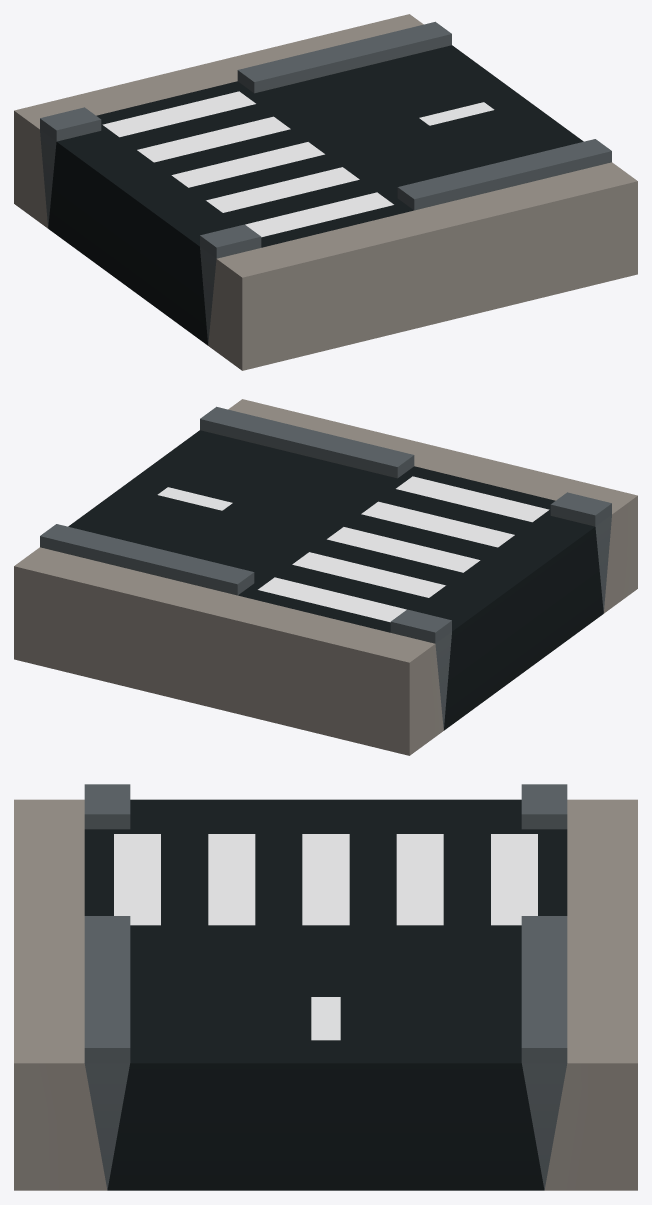
File: CARRETERA PEATONES.fbx
The picture shows the model from 3 angles, top to bottom: view 1: azimuth 30°, elevation 25°; view 2: azimuth 150°, elevation 25°; view 3: azimuth 270°, elevation 25°; orthographic projection. The views are drawn at different scales.
Visible parts, largest first — view 1: paved_road_straight__29_.006; view 2: paved_road_straight__29_.006; view 3: paved_road_straight__29_.006.
Boxes of the visible parts, x1,y1,x2,y2 form: paved_road_straight__29_.006: (14, 14, 637, 370); paved_road_straight__29_.006: (14, 399, 637, 755); paved_road_straight__29_.006: (14, 784, 637, 1190).
Size of the model in its own units: 900 by 227 by 900.
1 material, 1 textured.
